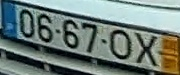0: (18, 8, 35, 39)
6: (61, 18, 80, 50), (35, 12, 54, 44)
7: (80, 20, 98, 54)
O: (108, 28, 132, 61)
X: (133, 31, 158, 68)
